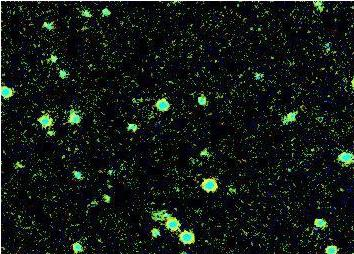star: (8, 149, 38, 179)
